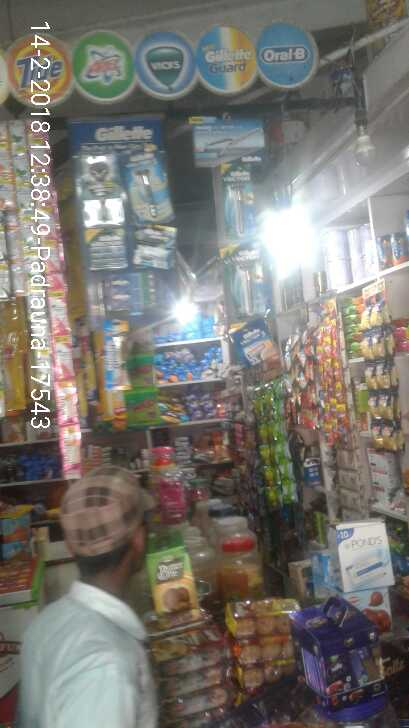gillette: (80, 147, 126, 224), (122, 148, 166, 211), (220, 159, 253, 236), (133, 219, 174, 273), (87, 231, 125, 276)
